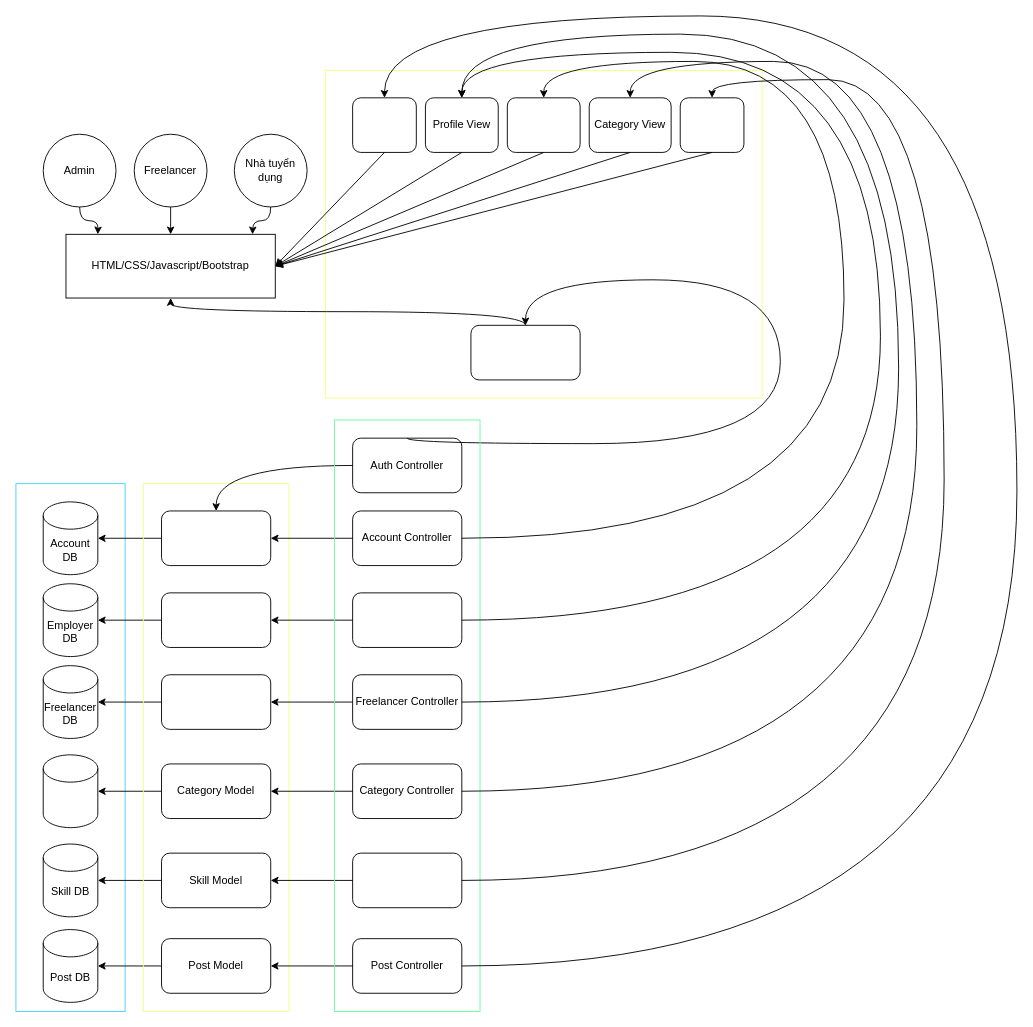
The diagram is 1033 pixels wide and 1027 high, and some of its shapes have lost their labels. The shapes that lost their labels are listed below. From the top down, each one's centre as x and y in pixels, then its label:
At [384,124]: "Post View".
At [543,124]: "Contact View".
At [711,124]: "Skill View".
At [525,352]: "Auth View".
At [216,538]: "Account Model".
At [216,619]: "Employer Model".
At [407,619]: "Employer Controller".
At [216,701]: "Freelancer Model".
At [70,791]: "Category DB".
At [407,880]: "Skill Controller".
